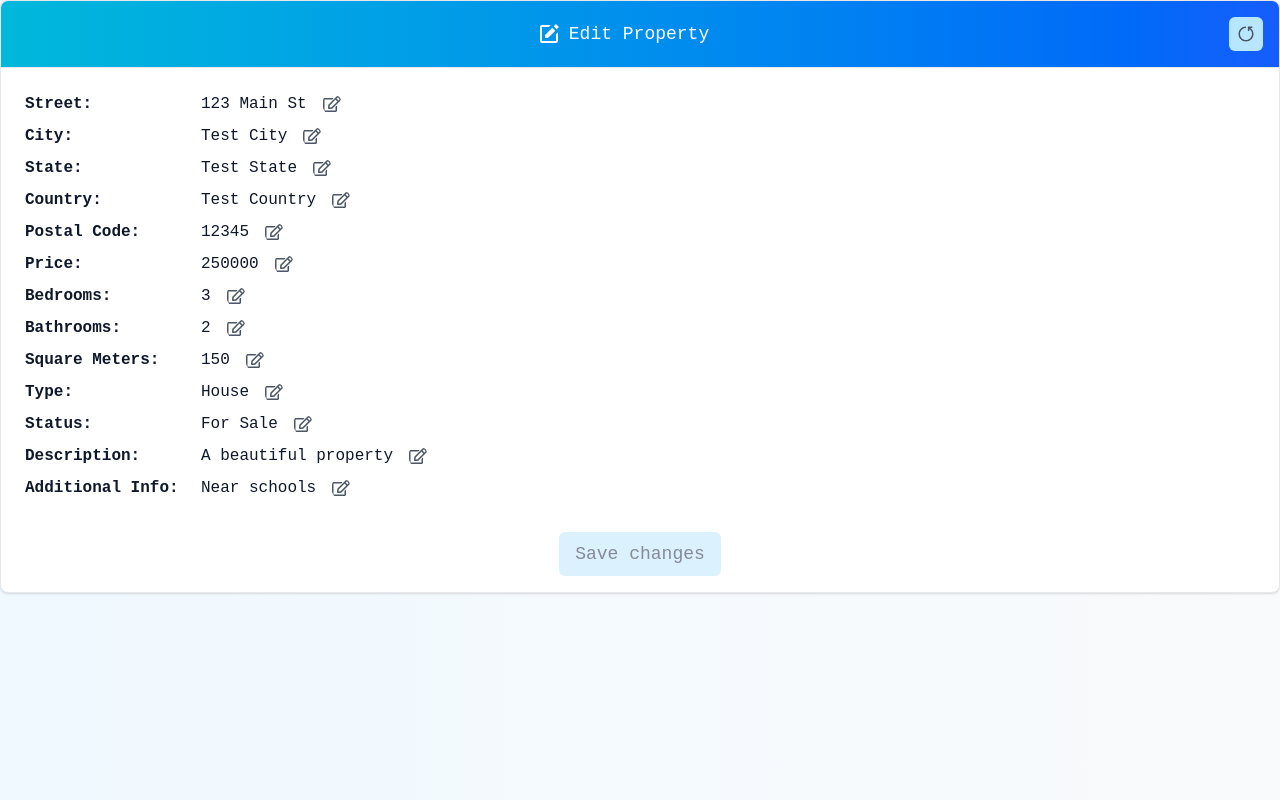
Test case: PropertyInfoEditForm Component › submit button is enabled after editing a field
This screenshot has width=1280, height=800.
Click the button named "edit" at x=332, y=104, box [323,95,341,113]
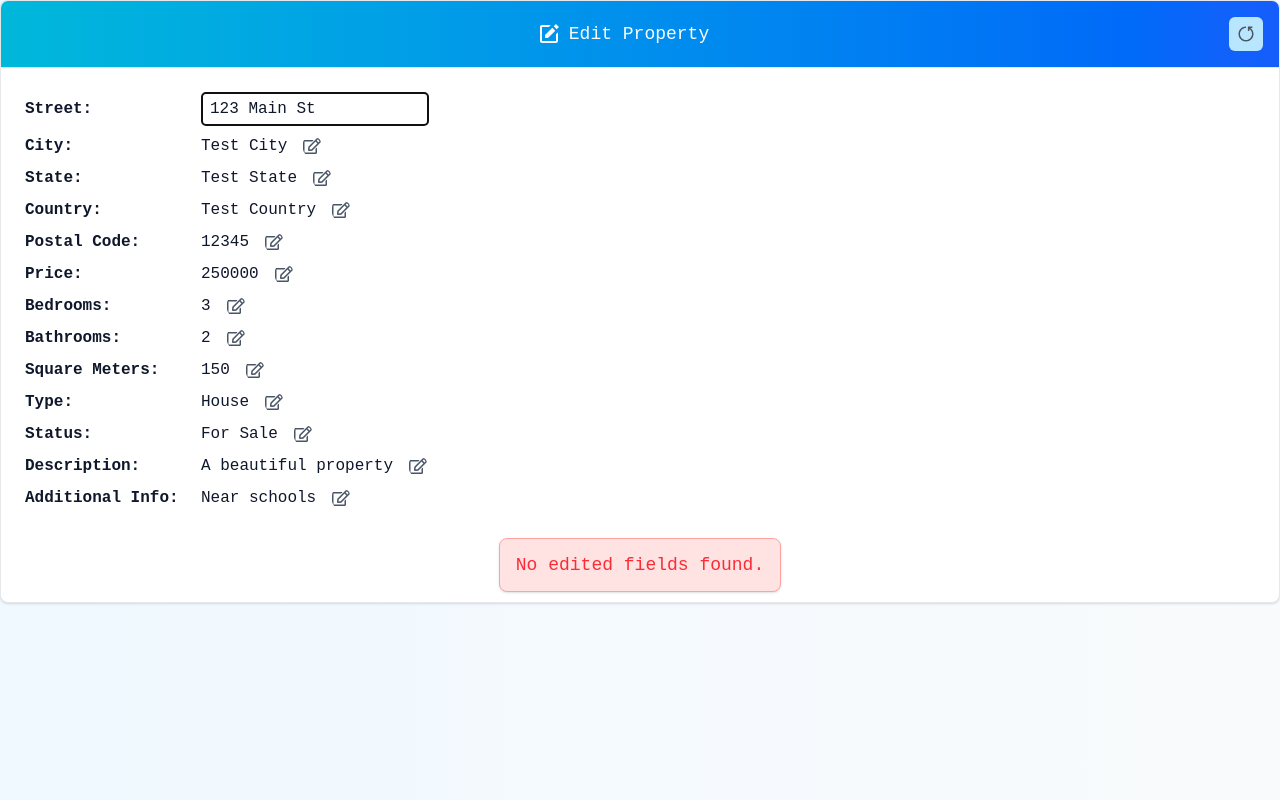
Replace the text in the field with "456 New St" at x=315, y=109, box [201,92,429,126]
Then press Enter
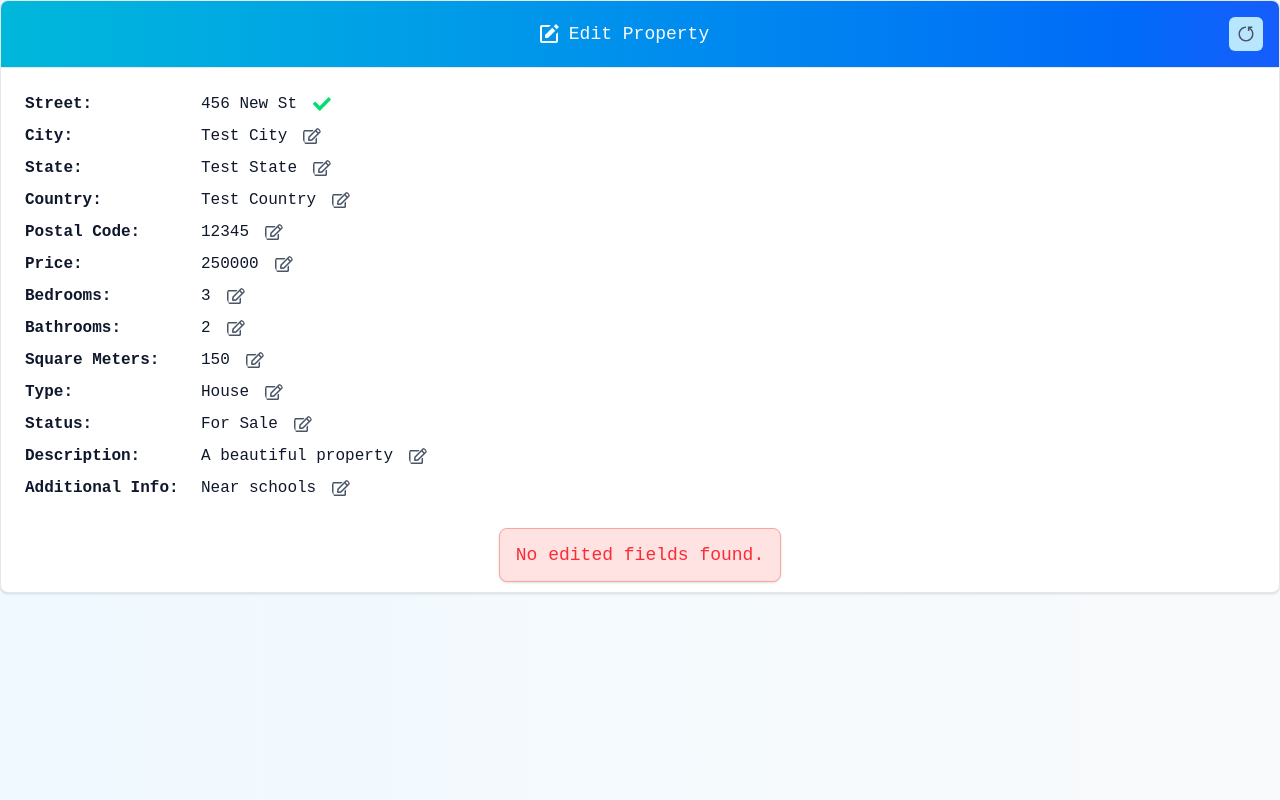
Expected: the button "Save changes" is enabled, [559,532,721,576]
